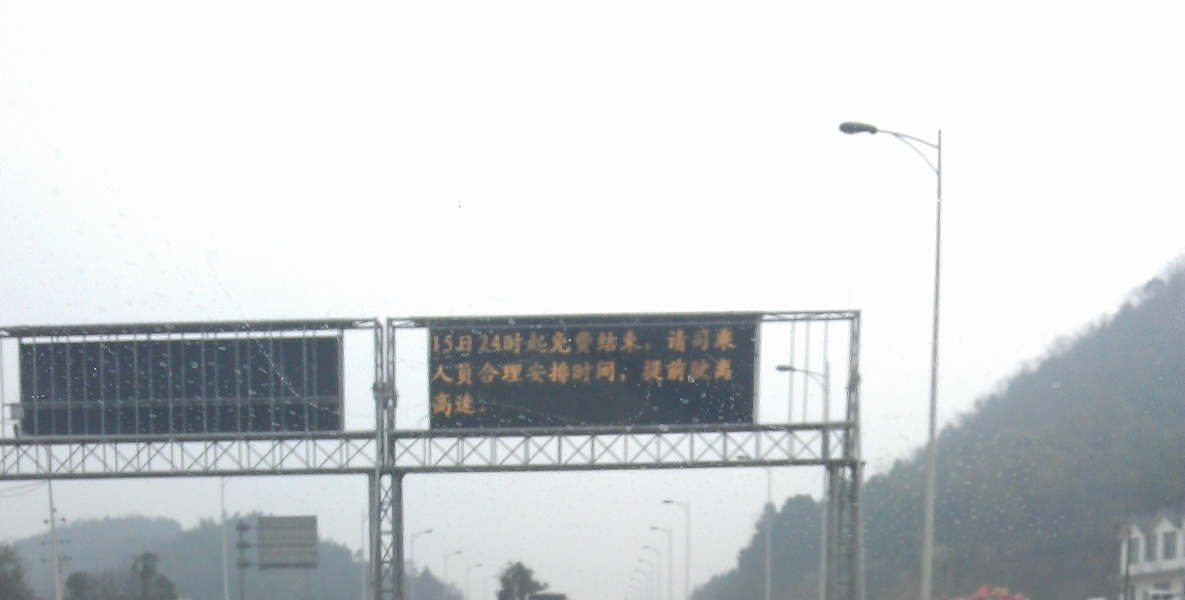text: (433, 327, 448, 358), (449, 327, 464, 358), (465, 327, 480, 358), (481, 327, 496, 358), (497, 327, 512, 358), (513, 327, 528, 358), (529, 327, 544, 358), (545, 327, 560, 358), (561, 327, 576, 358), (577, 327, 592, 358), (593, 327, 608, 358), (609, 327, 624, 358), (625, 327, 640, 358), (641, 327, 656, 358), (657, 327, 672, 358), (673, 327, 688, 358), (689, 327, 704, 358), (705, 327, 720, 358), (721, 327, 736, 358), (433, 357, 448, 387), (449, 357, 464, 387), (465, 357, 480, 387), (481, 357, 496, 387), (497, 357, 512, 387), (513, 357, 528, 387), (529, 357, 544, 387), (545, 357, 560, 387), (561, 357, 576, 387), (577, 357, 592, 387), (593, 357, 608, 387), (609, 357, 624, 387), (625, 357, 640, 387), (641, 357, 656, 387), (657, 357, 672, 387), (673, 357, 688, 387), (689, 357, 704, 387), (705, 357, 720, 387), (721, 357, 735, 387), (433, 391, 448, 419), (449, 391, 464, 419), (465, 391, 480, 419), (481, 391, 489, 419), (429, 391, 432, 419), (430, 327, 432, 358), (737, 327, 739, 358), (430, 357, 432, 387)
